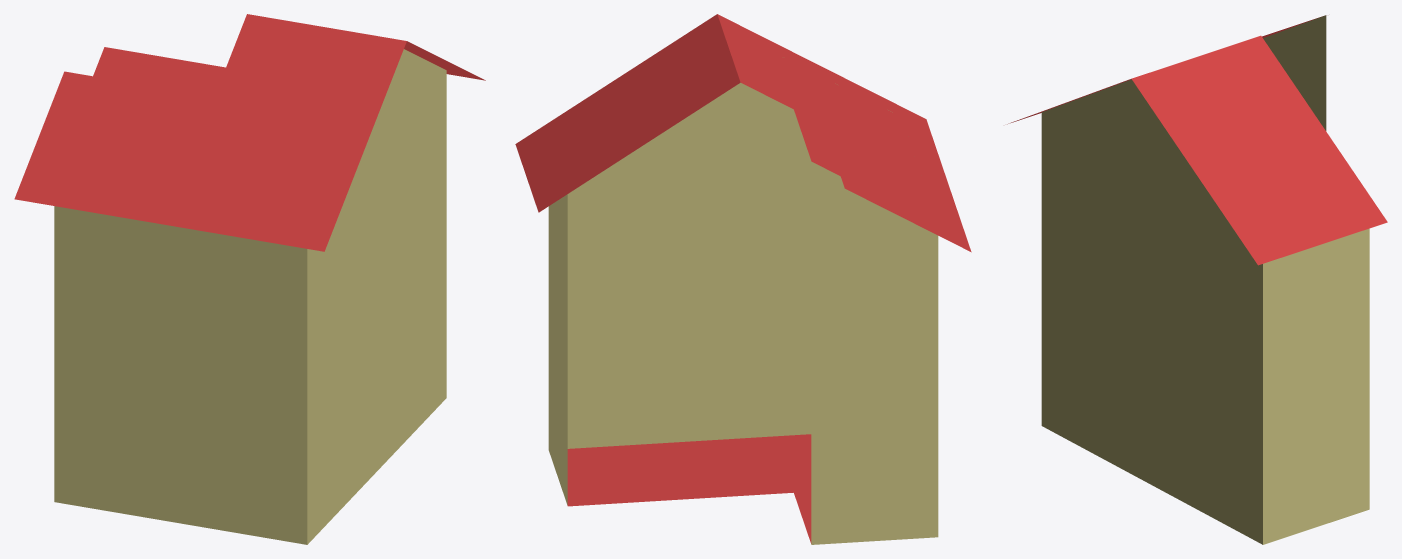
3 views of the same model, side by side, from view 1: azimuth 30°, elevation 25°; view 2: azimuth 150°, elevation 25°; view 3: azimuth 270°, elevation 25° (orthographic). The views are drawn at different scales.
Bounding box in the file's own units: 8.89 × 6.56 × 7.75.
